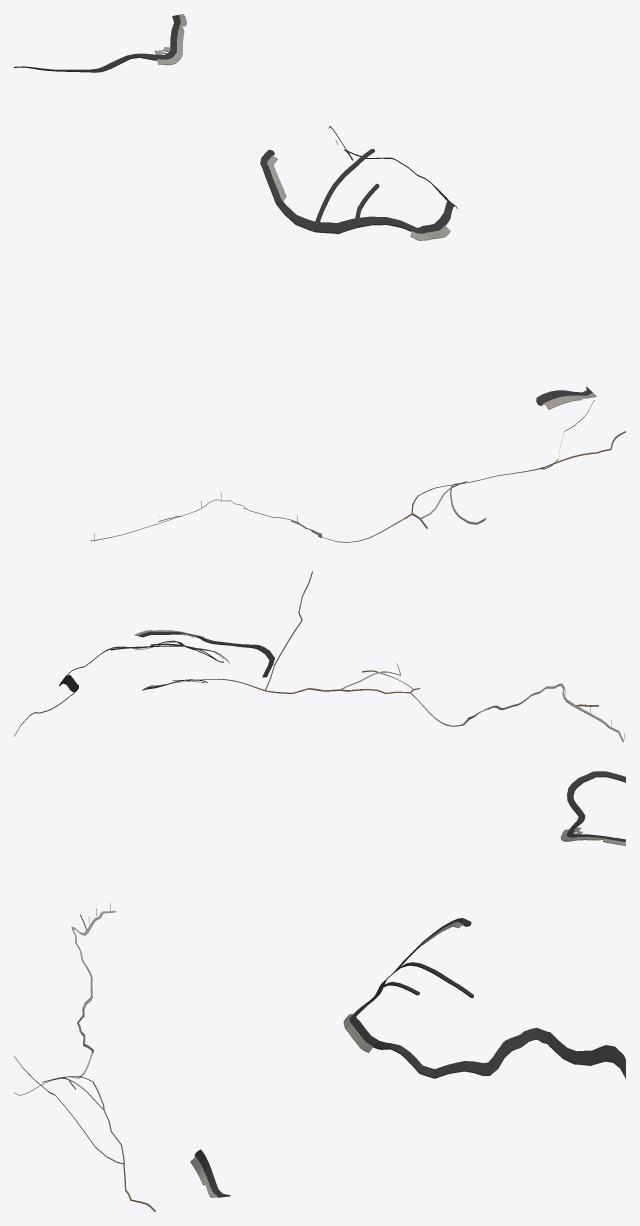
The picture shows the model from 3 angles, top to bottom: view 1: azimuth 30°, elevation 25°; view 2: azimuth 150°, elevation 25°; view 3: azimuth 270°, elevation 25°; orthographic projection. The views are drawn at different scales.
Size of the model in its own units: 586 by 297 by 584.
